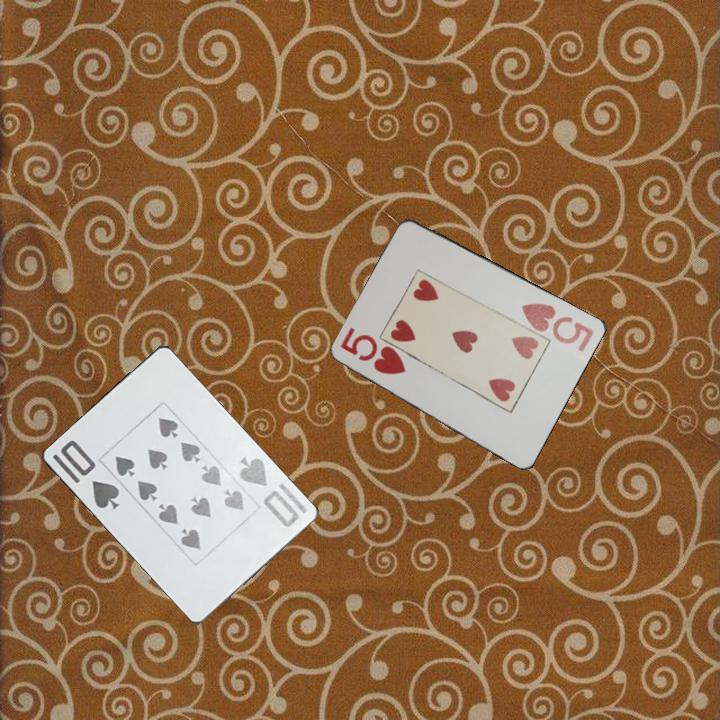5h: (518, 299, 597, 355), (337, 328, 410, 378)
Ts: (49, 436, 123, 513), (236, 451, 303, 530)
